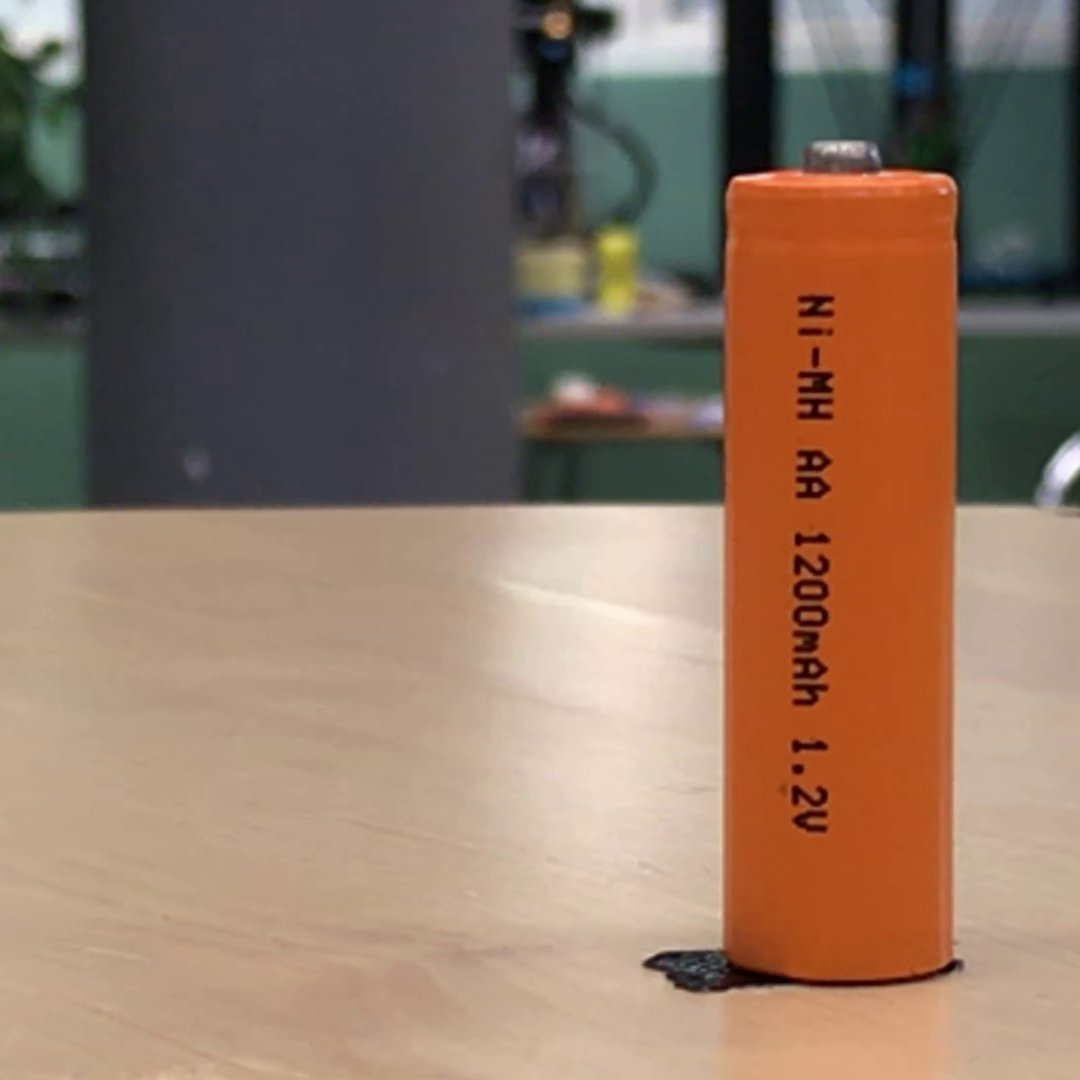keyword: (788, 285, 843, 430), (782, 730, 837, 843)
